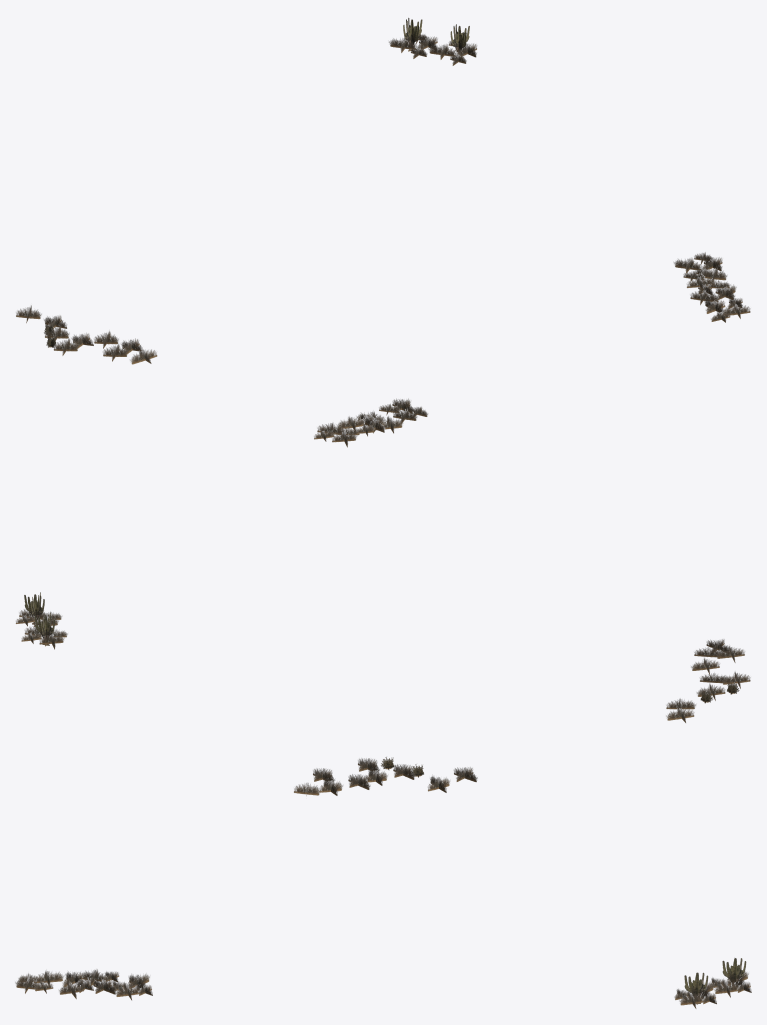
File: 0406worlddeserttransparent_worlddeserttransparentmaterial_0_lev.glb
The picture shows the model from 3 angles, top to bottom: view 1: azimuth 30°, elevation 25°; view 2: azimuth 150°, elevation 25°; view 3: azimuth 270°, elevation 25°; orthographic projection. The views are drawn at different scales.
Visible parts, largest first — view 1: 0406worlddeserttransparent_worlddeserttransparentmaterial_0_; view 2: 0406worlddeserttransparent_worlddeserttransparentmaterial_0_; view 3: 0406worlddeserttransparent_worlddeserttransparentmaterial_0_.
Boxes of the visible parts, bbox=[...] form: 0406worlddeserttransparent_worlddeserttransparentmaterial_0_: bbox=[16, 18, 750, 364]; 0406worlddeserttransparent_worlddeserttransparentmaterial_0_: bbox=[16, 398, 750, 722]; 0406worlddeserttransparent_worlddeserttransparentmaterial_0_: bbox=[15, 757, 751, 1008].
Size of the model in its own units: 27.19 by 3.61 by 28.96.
1 material, 1 textured.
